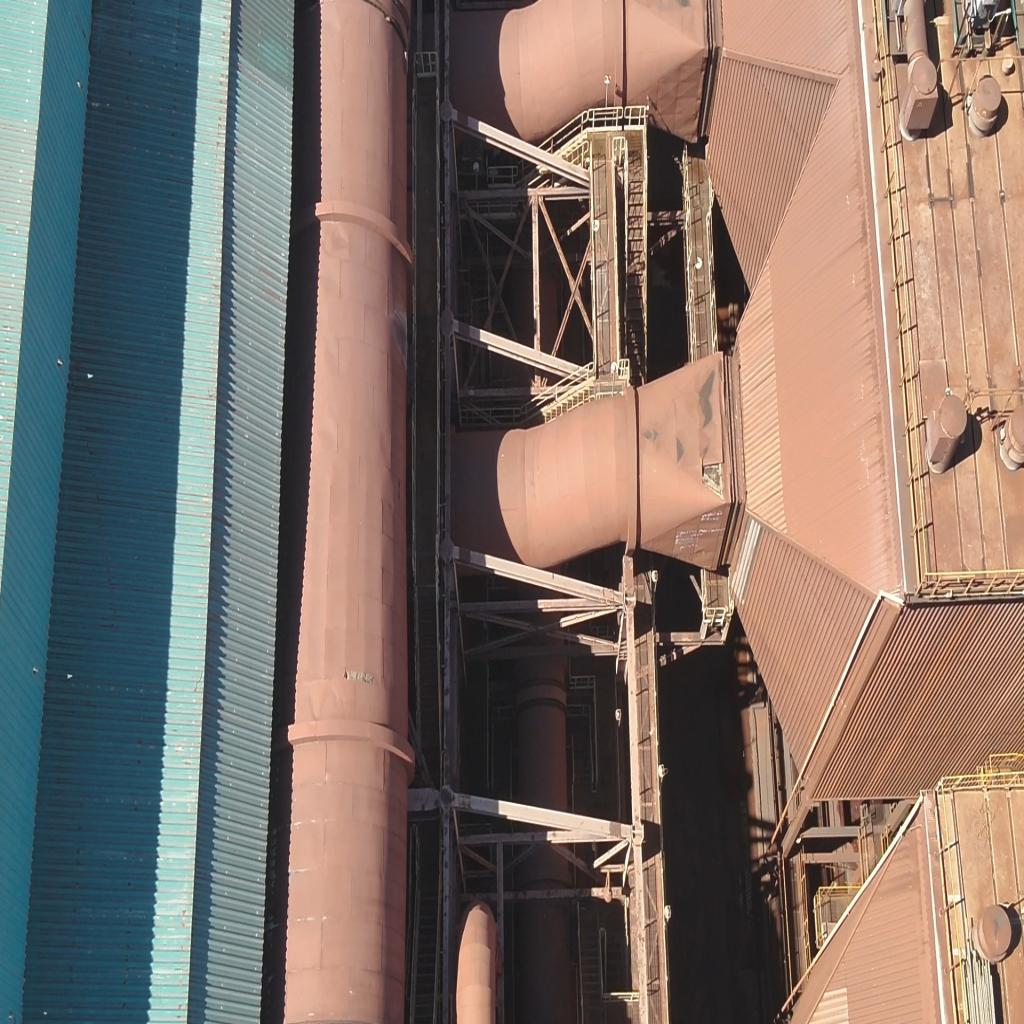Failures: (700, 453, 726, 501), (342, 660, 379, 690)
